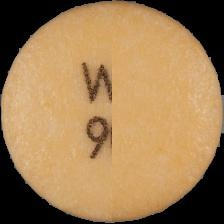0591-0900: (0, 0, 224, 224)
